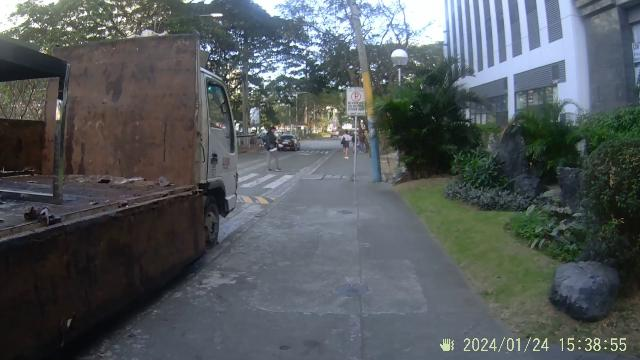street_sign: (346, 88, 366, 185)
utility_post: (361, 47, 382, 182)
